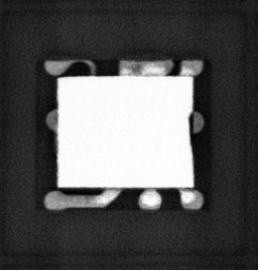DIE_BROKEN: (186, 110, 196, 150)
